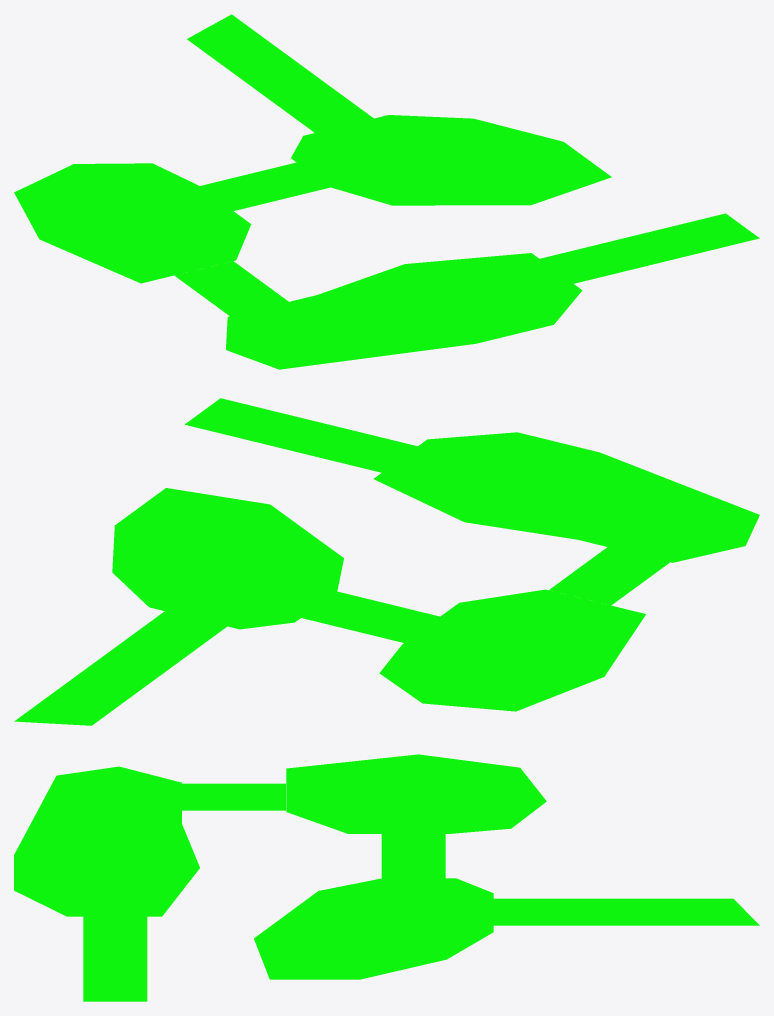
Rendered from s01b_lc2-floor.glb.
3 views of the same model, one above another, from view 1: azimuth 30°, elevation 25°; view 2: azimuth 150°, elevation 25°; view 3: azimuth 270°, elevation 25° (orthographic). The views are drawn at different scales.
Visible parts, largest first — view 1: collision_floor-colonly; view 2: collision_floor-colonly; view 3: collision_floor-colonly.
Part boxes in pixels (x1,y1,x2,y2): collision_floor-colonly: [14, 14, 759, 369]; collision_floor-colonly: [14, 398, 759, 725]; collision_floor-colonly: [14, 754, 759, 1001].
Size of the model in its own units: 54.89 by 0 by 70.
